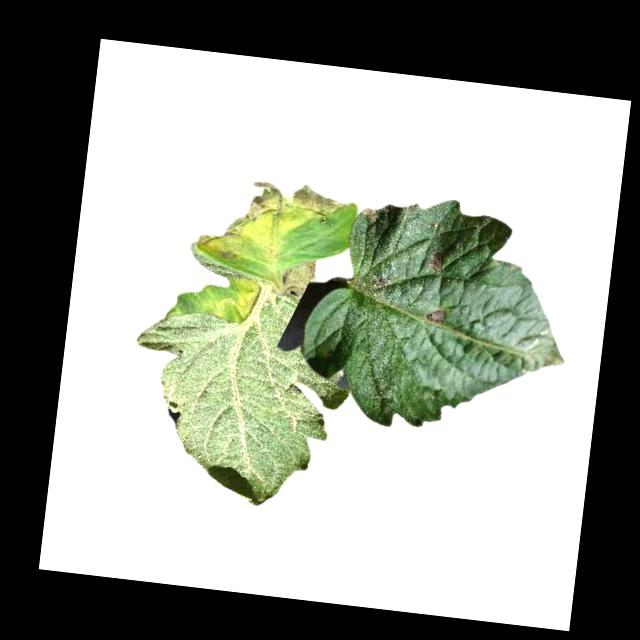Late_blight: (205, 274, 259, 320), (288, 182, 349, 220), (242, 175, 291, 222), (273, 256, 316, 297), (220, 216, 246, 239), (421, 307, 447, 327), (367, 272, 389, 293), (428, 252, 445, 276), (216, 249, 238, 262)
healthy: (117, 276, 361, 514)
